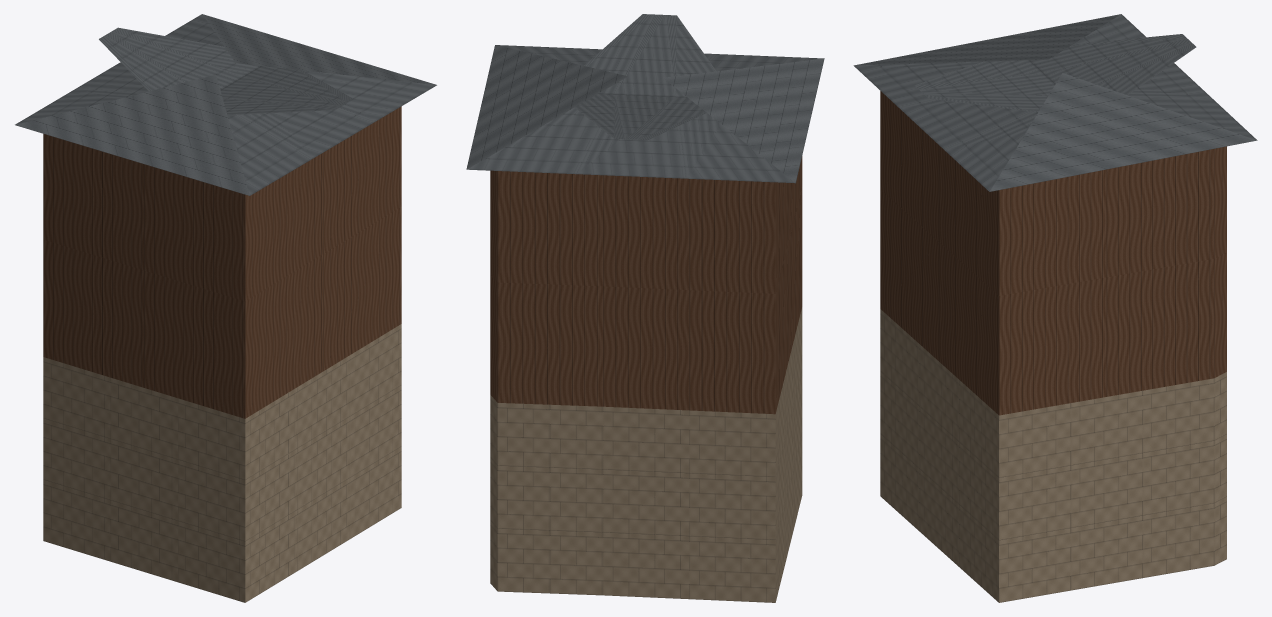
Rendered from bld_c16_26_399.gltf.
3 renders of one model, left to right at view 1: azimuth 30°, elevation 25°; view 2: azimuth 150°, elevation 25°; view 3: azimuth 270°, elevation 25°, orthographic. The views are drawn at different scales.
Parts seen in each view (by area): view 1: bld_c16_26_399; view 2: bld_c16_26_399; view 3: bld_c16_26_399.
Boxes of the visible parts, box(x1,y1,x2,y2) form: bld_c16_26_399: box(15, 14, 436, 602); bld_c16_26_399: box(466, 14, 824, 602); bld_c16_26_399: box(853, 14, 1257, 602).
Size of the model in its own units: 10.39 by 12.6 by 9.97.
3 materials, 3 textured.
